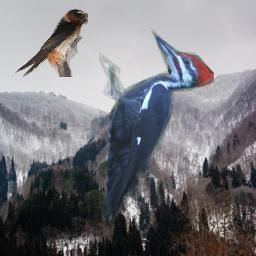Swallow: (14, 9, 88, 77)
Woodpecker: (99, 27, 214, 229)
